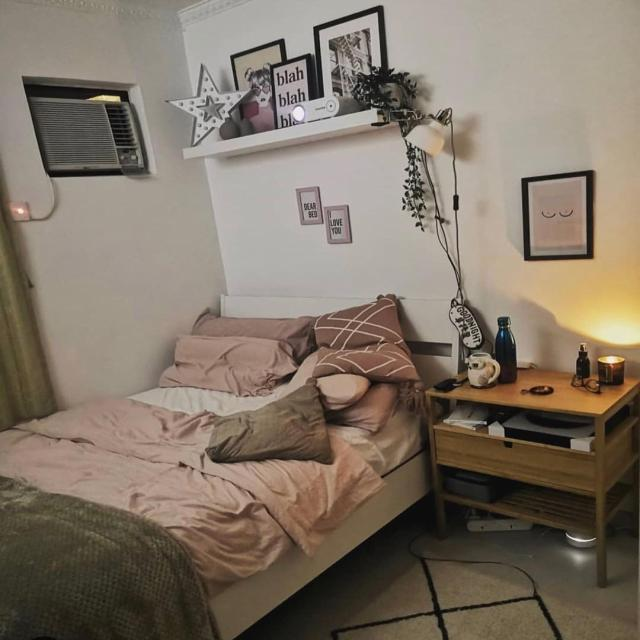bed: (0, 288, 416, 640)
